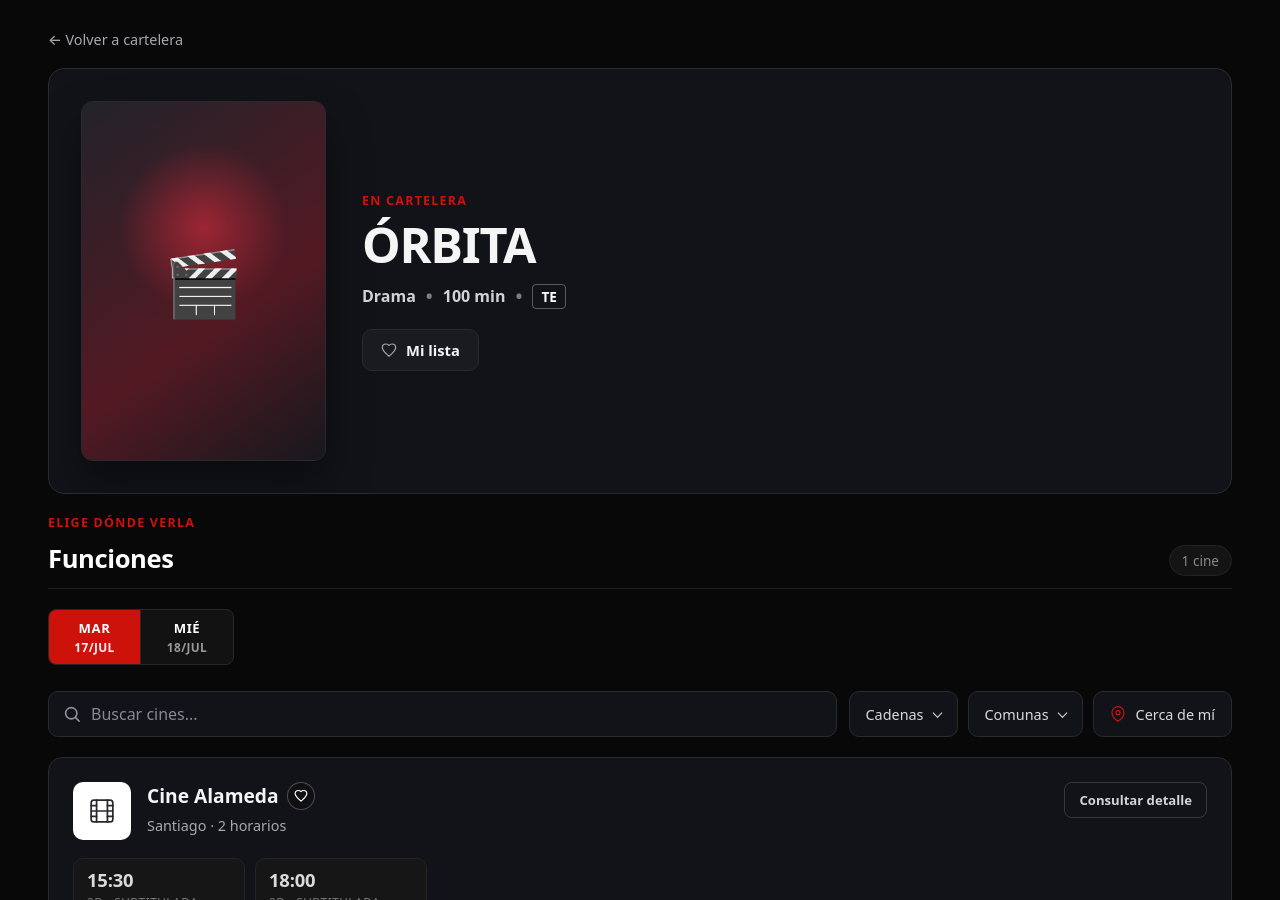
Test: Horarios en el detalle de película › agrupa los horarios por cine y actualiza la URL al cambiar de fecha
Expected: the link "Cine Alameda" is shown, 147,782 -> 279,810
Expected: the text "15:30" is shown, 87,867 -> 133,892
Click the tab "MIÉ 18/JUL" at [187, 637], box 141,610 -> 233,664
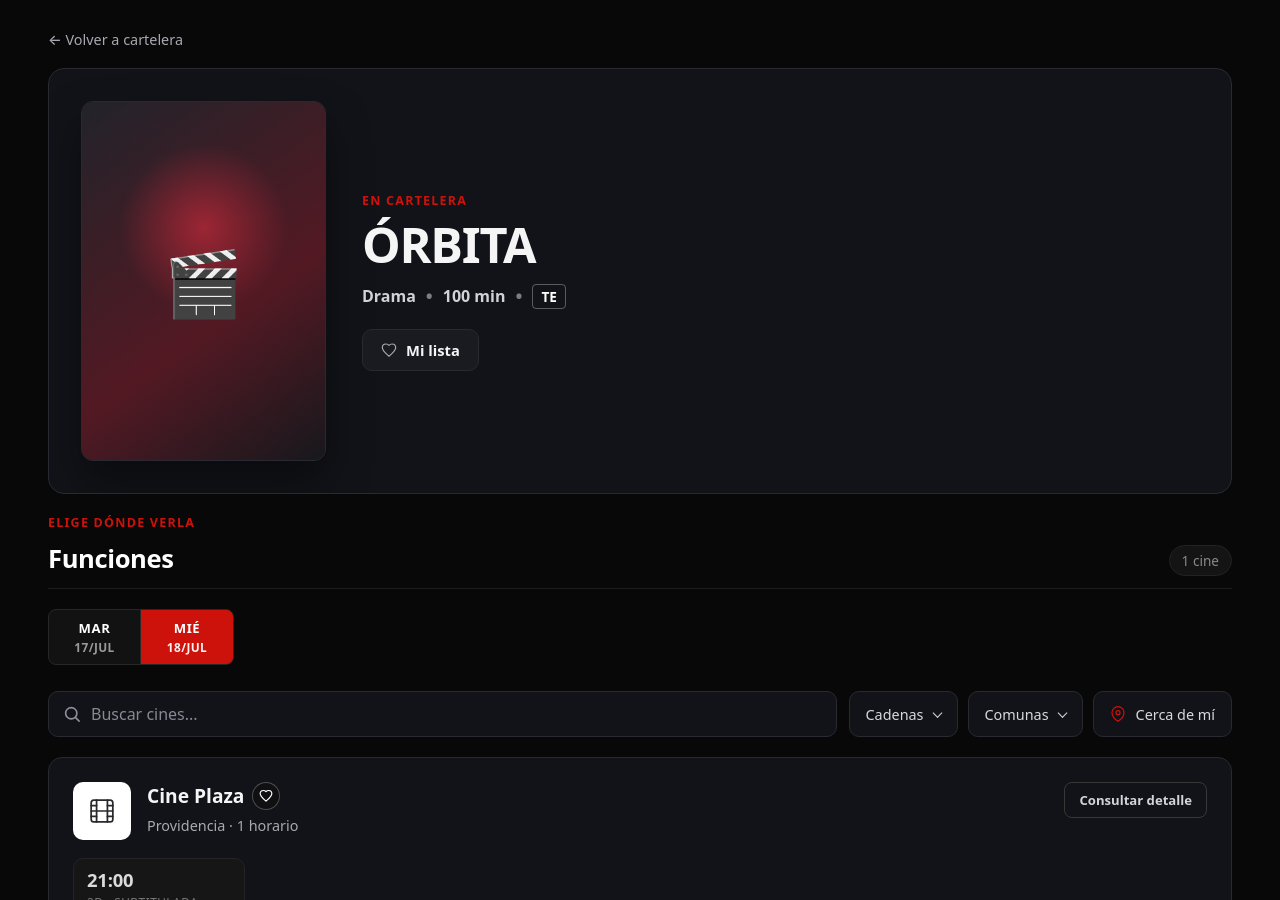
Result: the link "Cine Plaza" is shown at 147,782 -> 244,810
Result: the text "21:00" is shown at 87,867 -> 133,892
Result: the link "Cine Alameda" is gone
